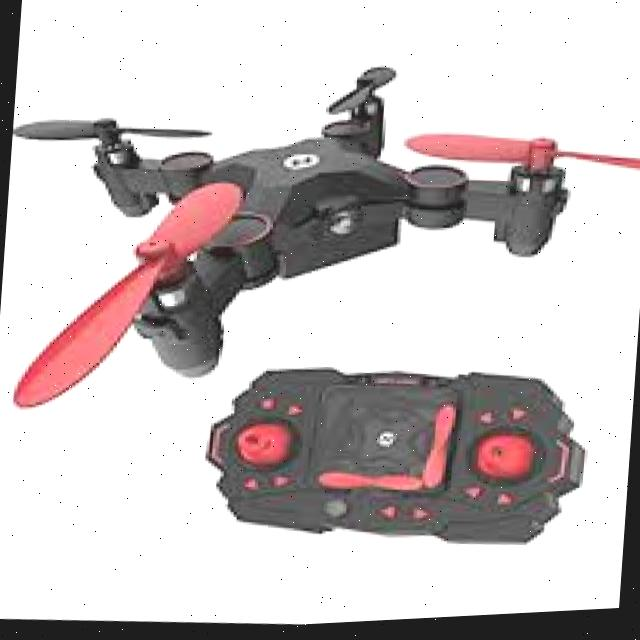drone: (0, 20, 616, 447)
